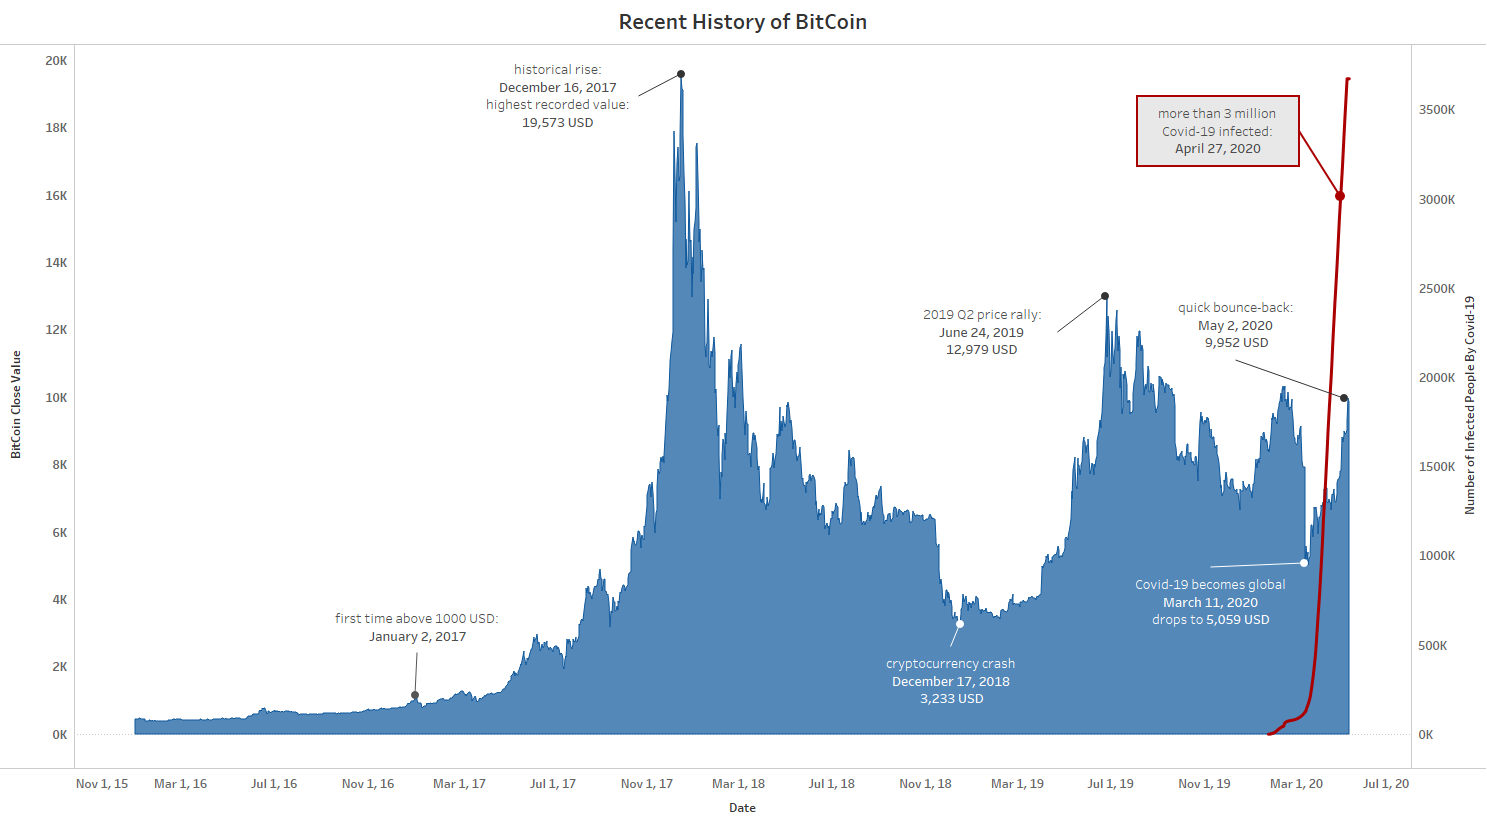

The dashboard page shown, as its layout file describes it:
{"tool":"tableau","page":{"name":"BitcoinHistory","canvas":[1366,768],"ordinal":0},"visuals":[{"type":"worksheet","title":"Recent History of BitCoin","mark":"Line","rows":["Close (BTC-USD.csv)","Daily New Infections (Global)"],"cols":["Date (BTC-USD.csv)"],"box":[2,0,1363,766]},{"type":"text","box":[1138,10,219,38]},{"type":"legend","title":"Recent History of BitCoin","param":"[federated.0rg4kuo0qrrmle1eso1do0pyr2xw].[:Measure Names]","box":[1020,67,188,50]}]}

Visuals, with their boxes in screenshot pixels (x1, y1, x2, y2), scaled from the page's 1366x768 canvas onto the 1487x824 screenshot:
"Recent History of BitCoin" worksheet (Line marks): bbox=[2, 0, 1486, 822]
text: bbox=[1239, 11, 1477, 52]
"Recent History of BitCoin" legend: bbox=[1110, 72, 1315, 126]
